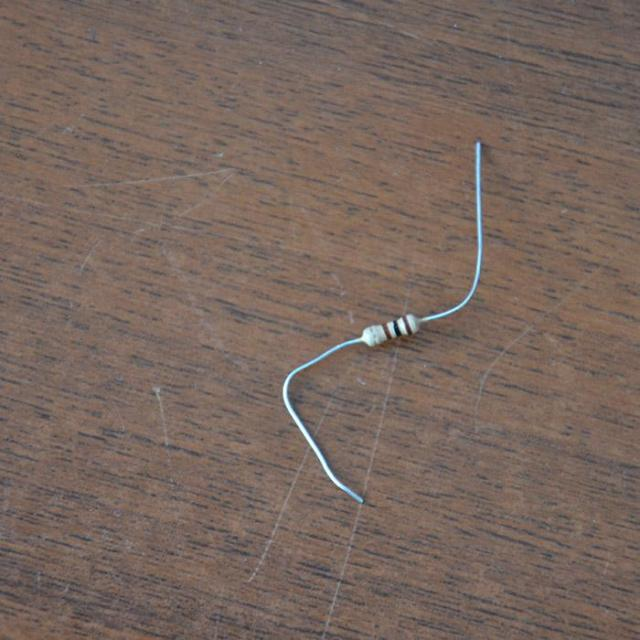Resistor: (363, 313, 421, 350)
black: (394, 320, 402, 337)
brown: (403, 316, 413, 336), (383, 324, 394, 341)
gold: (369, 327, 378, 347)
